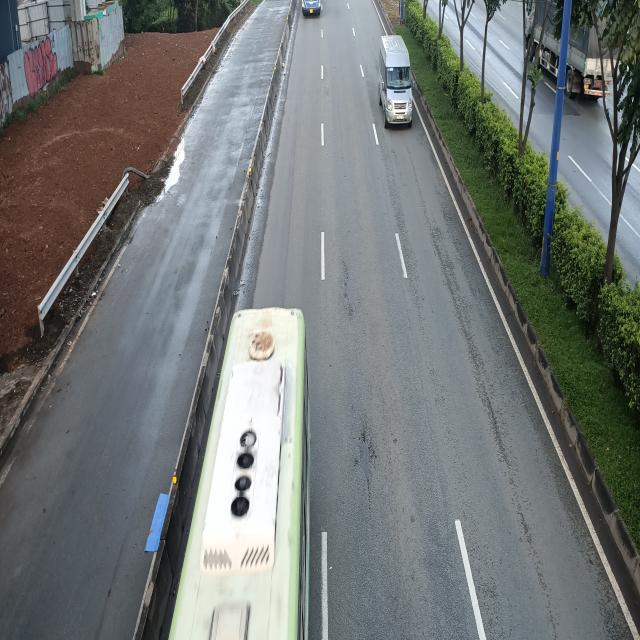coach: (169, 307, 312, 640)
van: (376, 36, 414, 129)
